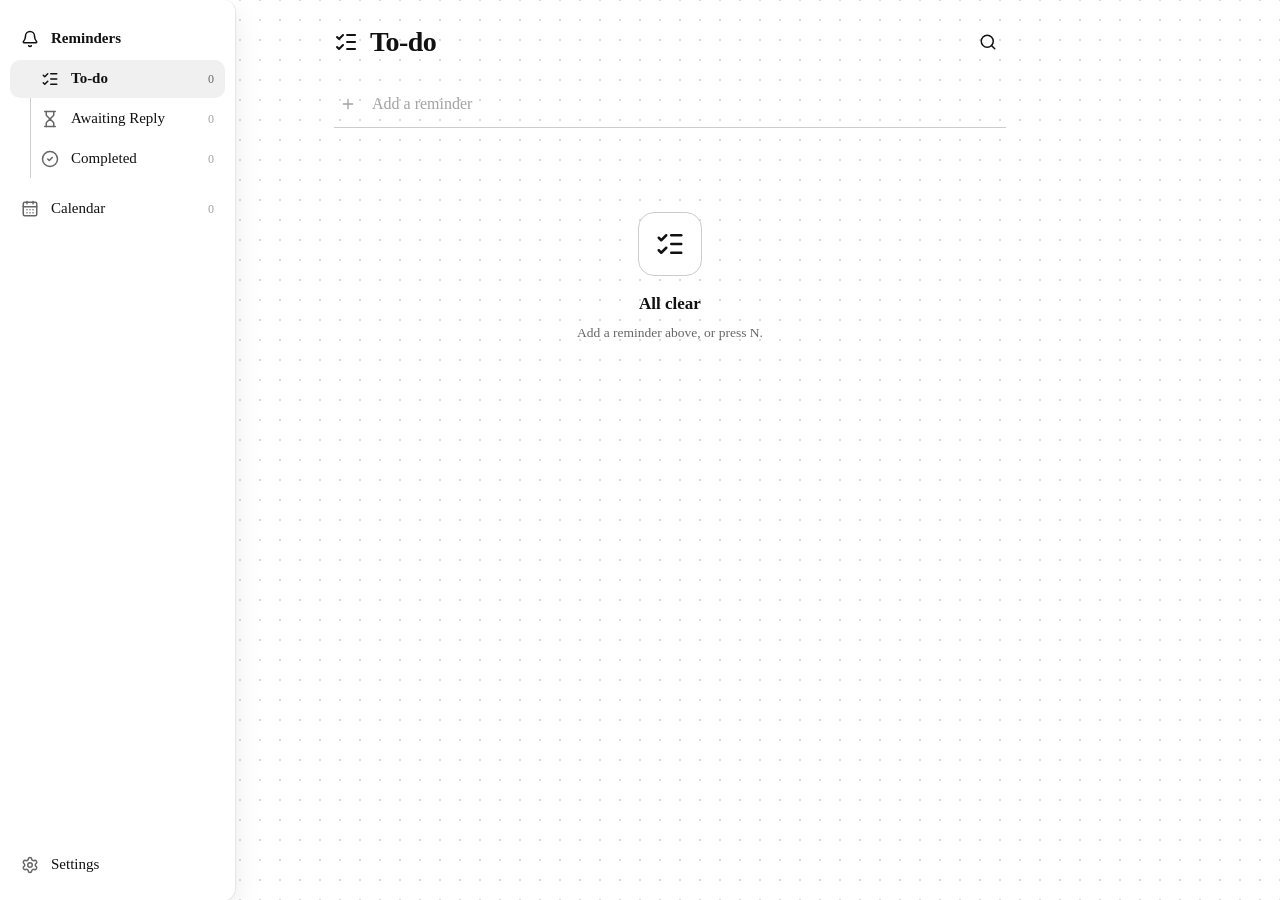
Test: App › adds a reminder, completes it, and restores it
Type "Buy milk" into the field named "Add to To-do" at (686, 104), box [370, 91, 1002, 116]
Then press Enter
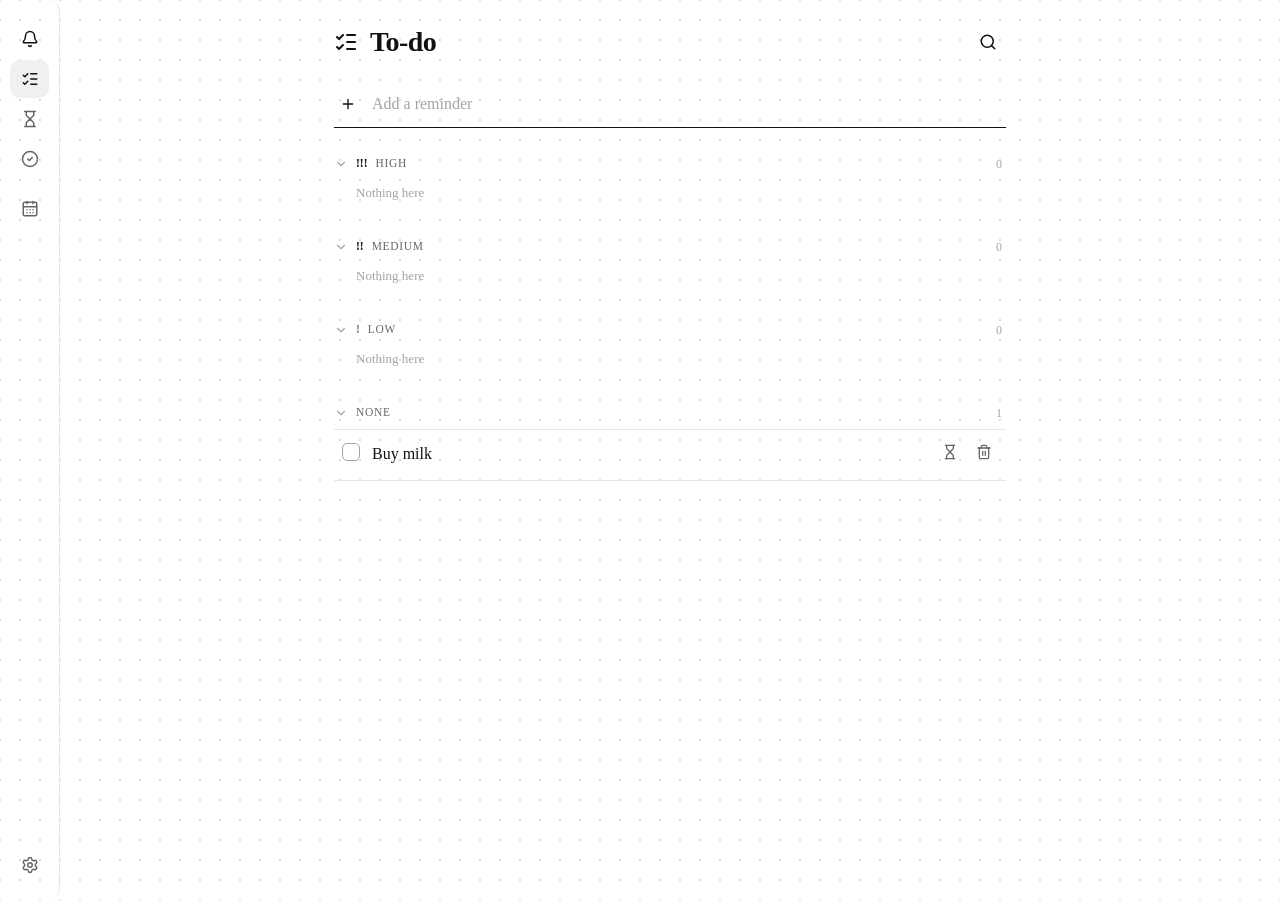
expect the text "Buy milk" is shown: met, box [372, 442, 432, 465]
Click the checkbox named "Complete “Buy milk”" at (351, 452), box [342, 442, 360, 460]
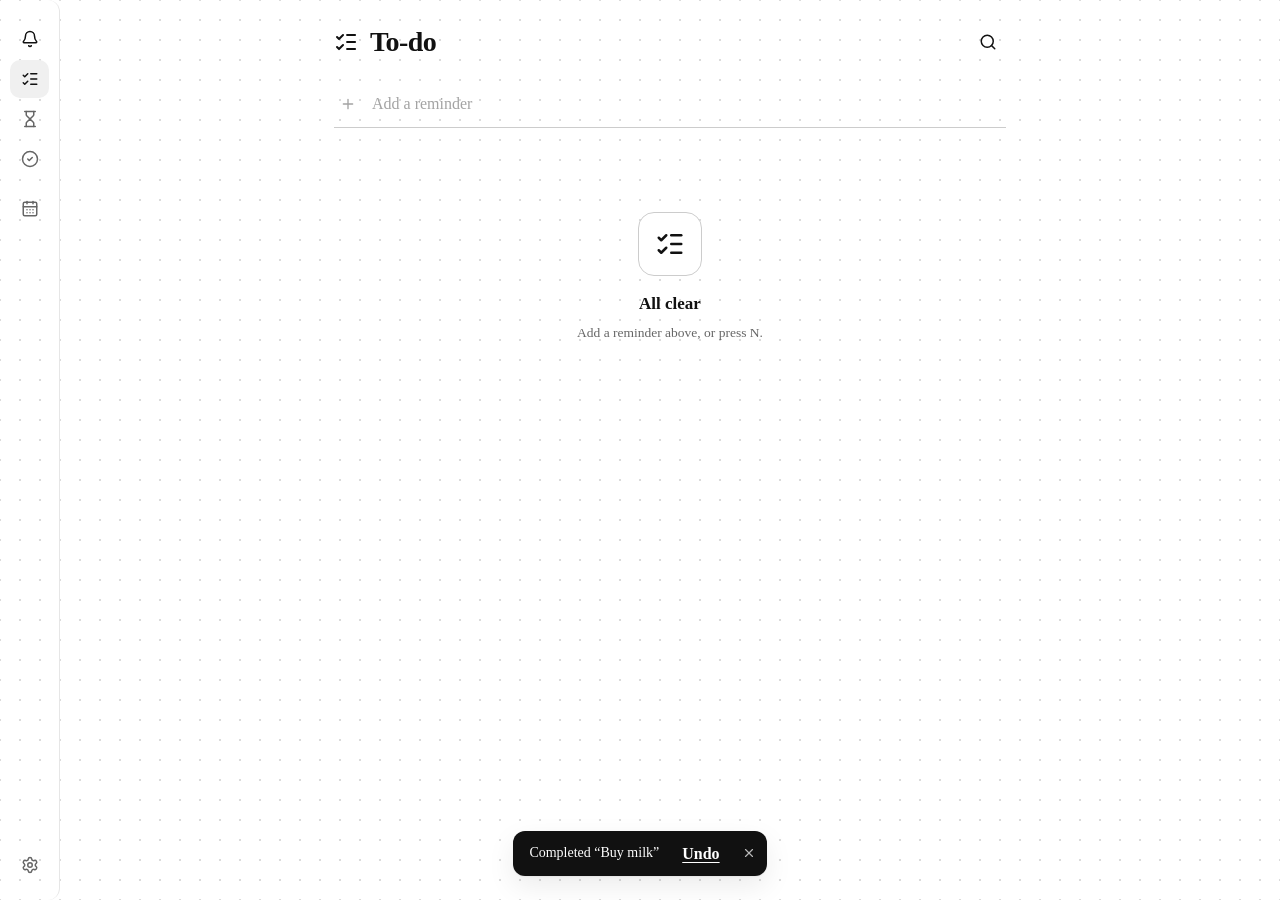
expect the text "Completed “Buy milk”" is shown: met, box [529, 843, 659, 864]
Click the 3rd tab named "Completed" at (30, 159), box [10, 140, 49, 178]
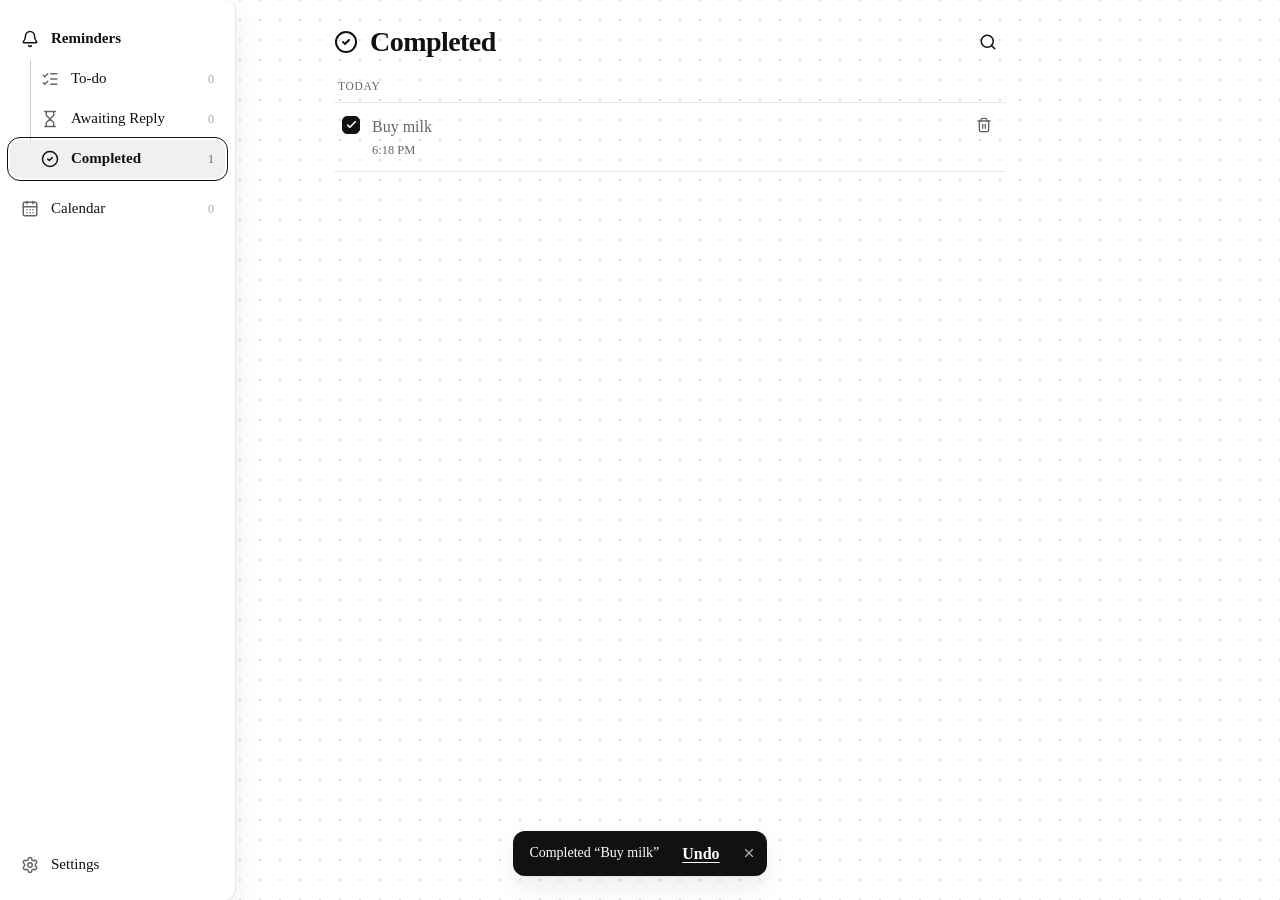
expect the text "Buy milk" is shown: met, box [372, 115, 432, 138]
expect the heading "Today" is shown: met, box [338, 80, 380, 92]
Click the checkbox named "Restore “Buy milk”" at (351, 125), box [342, 116, 360, 134]
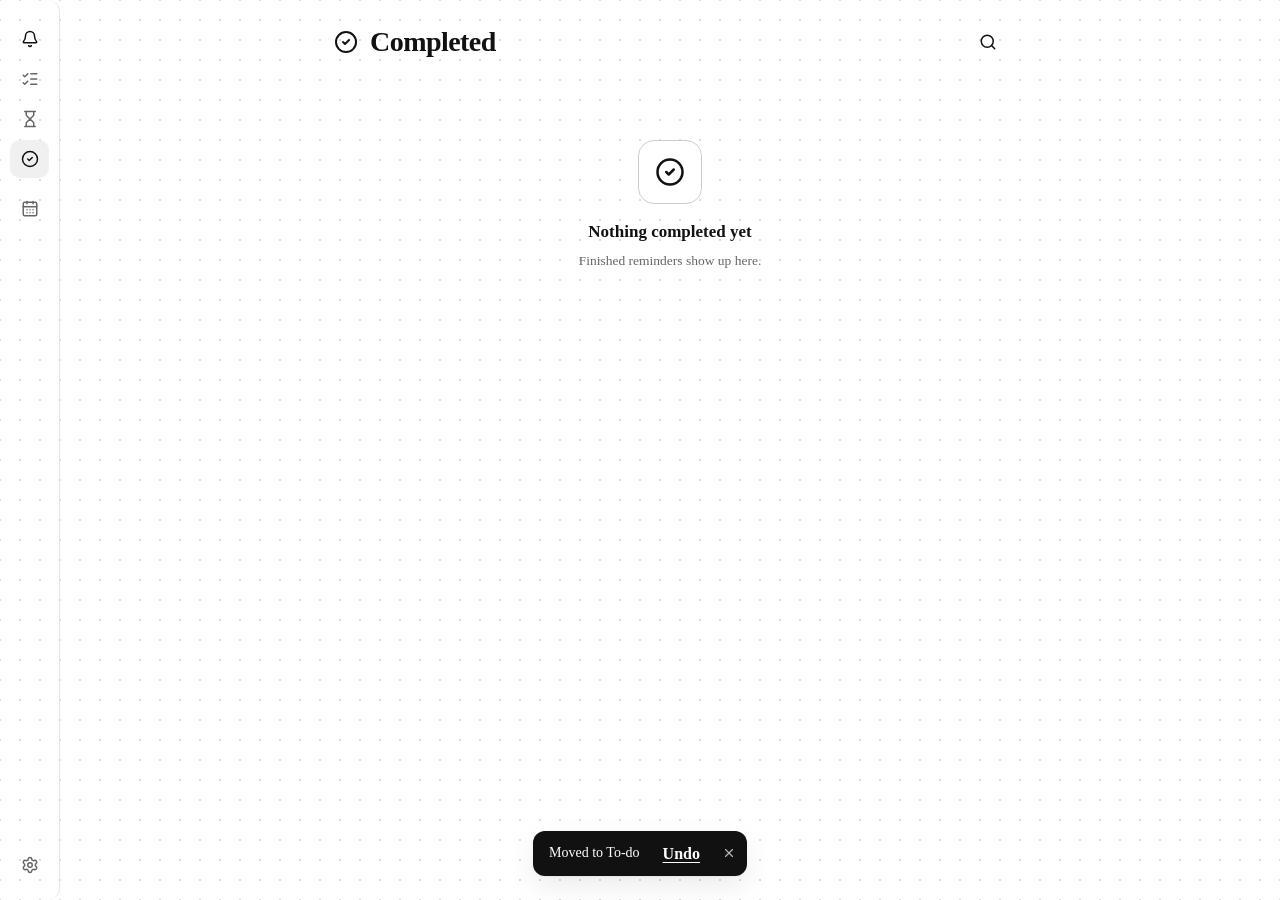
Click the 1st tab named "To-do" at (30, 79), box [10, 60, 49, 98]
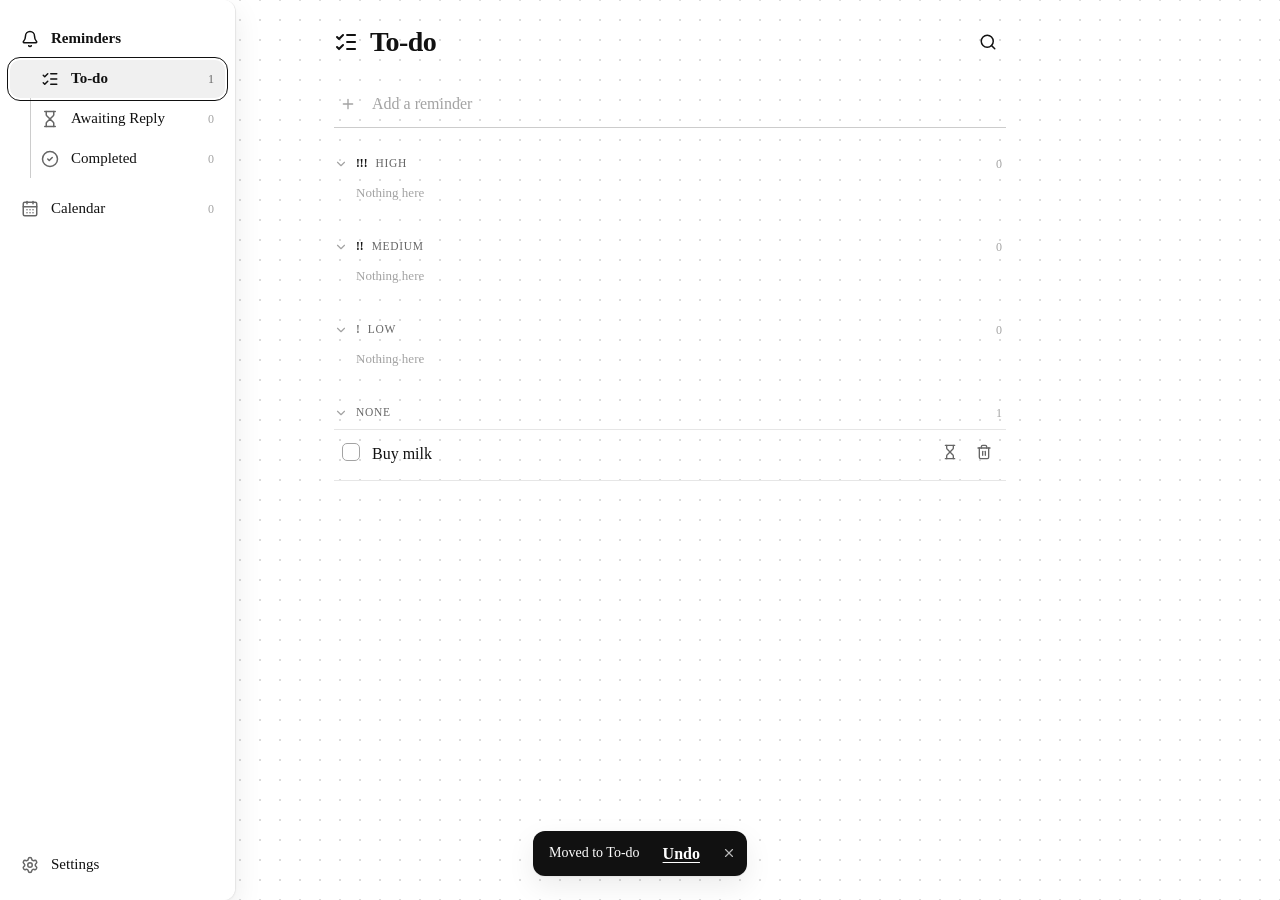
expect the text "Buy milk" is shown: met, box [372, 442, 432, 465]
